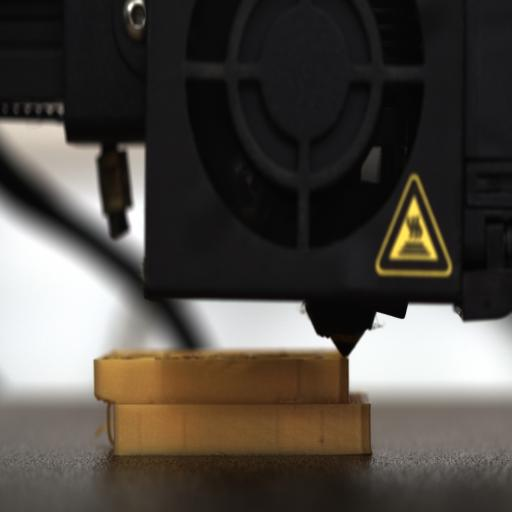layer_shift: (89, 391, 372, 409)
